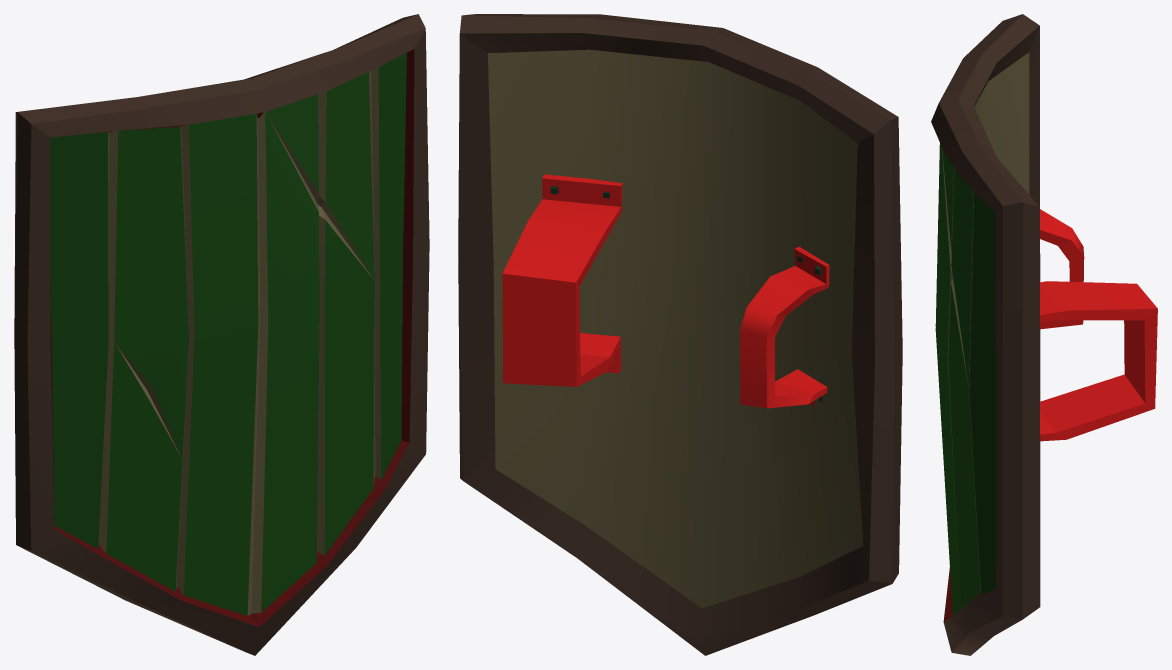
The model's file is PT_Shield_14_a.glb.
3 renders of one model, left to right at view 1: azimuth 30°, elevation 25°; view 2: azimuth 150°, elevation 25°; view 3: azimuth 270°, elevation 25°, orthographic. The views are drawn at different scales.
Visible parts, largest first — view 1: PT_Shield_14_a_body; view 2: PT_Shield_14_a_body, PT_Shield_14_a_handle; view 3: PT_Shield_14_a_body, PT_Shield_14_a_handle.
Part boxes in pixels (left/top/right/bottom): PT_Shield_14_a_body: left=14, top=14, right=429, bottom=655; PT_Shield_14_a_body: left=458, top=14, right=902, bottom=655; PT_Shield_14_a_handle: left=502, top=174, right=829, bottom=408; PT_Shield_14_a_body: left=931, top=14, right=1040, bottom=655; PT_Shield_14_a_handle: left=1040, top=209, right=1157, bottom=441.
Bounding box in the file's own units: 0.4939 × 0.6701 × 0.2477.
Materials: 1 (1 with a texture image).
